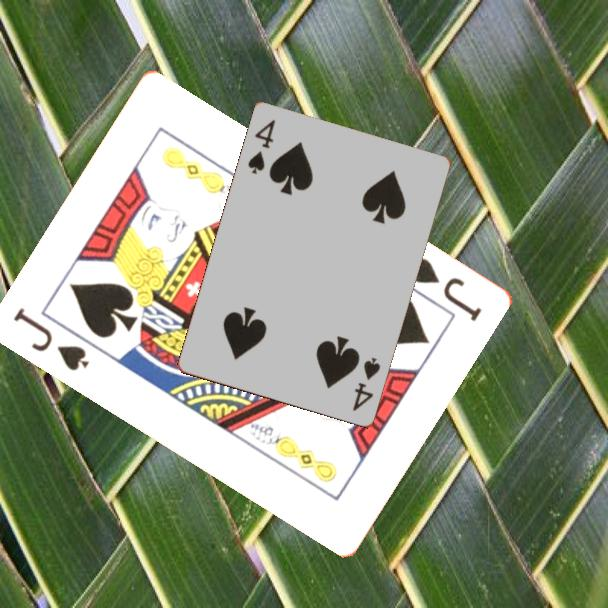s04: (244, 116, 279, 178), (349, 354, 384, 414)
s11: (10, 304, 93, 374), (405, 254, 486, 325)
